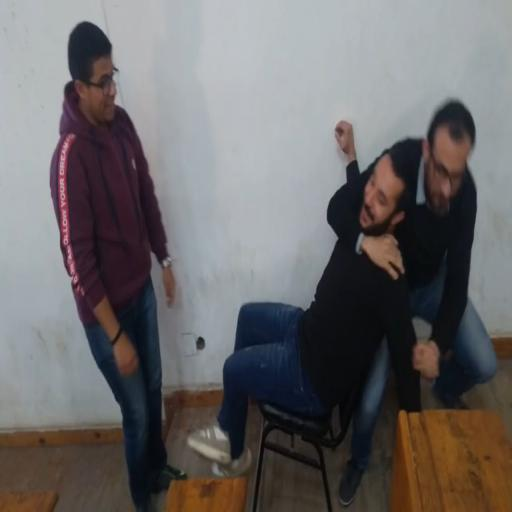violencia: (184, 84, 508, 488)
